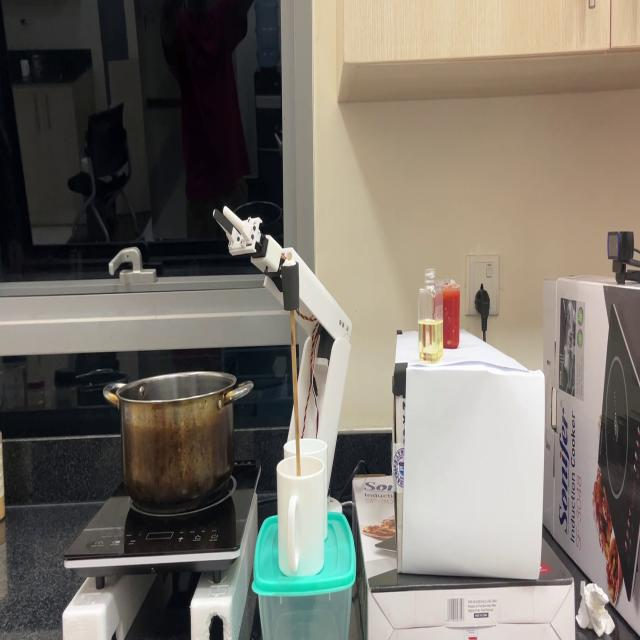blended_tomatoes_pepper: (447, 289, 461, 348)
cooking_pot: (105, 382, 252, 498)
oil: (420, 322, 446, 358)
spatula: (288, 331, 304, 478)
